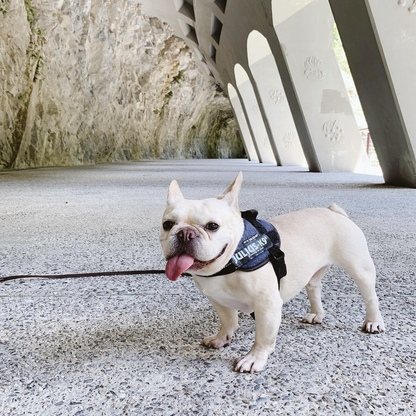bulldog: (158, 168, 386, 373)
